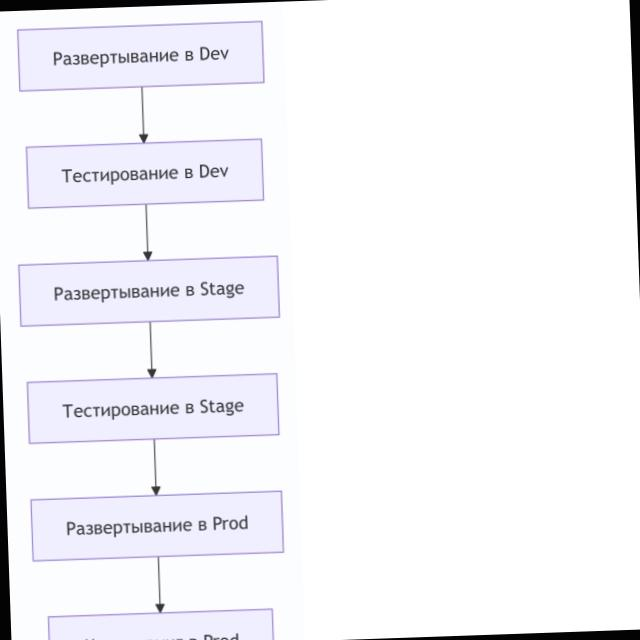arrow: (147, 322, 156, 377), (139, 88, 148, 143), (155, 557, 164, 612), (151, 440, 160, 494), (143, 206, 152, 259)
rectangle: (18, 256, 279, 325), (32, 491, 283, 561), (27, 374, 278, 444), (18, 21, 264, 90), (26, 139, 264, 209)
